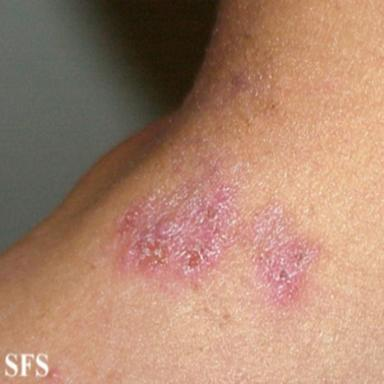Hailey-Hailey-Disease: (113, 166, 244, 276), (247, 202, 318, 303)
